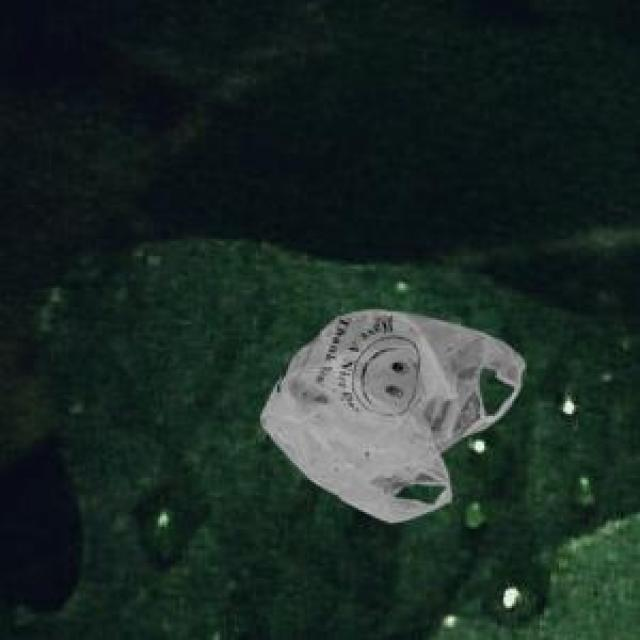plastic: (224, 277, 566, 548)
